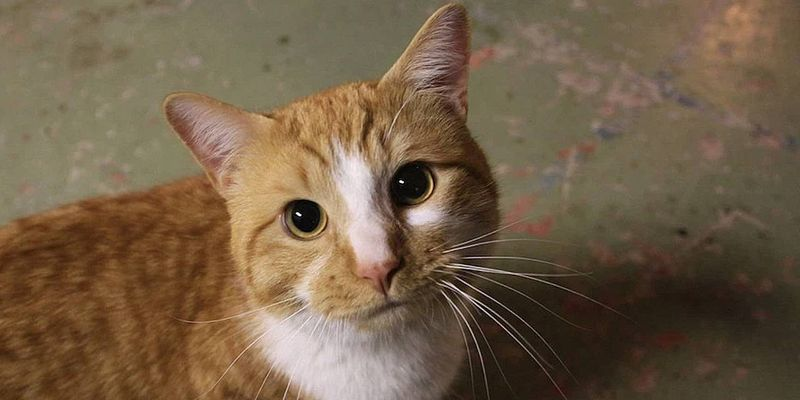cat: (134, 61, 557, 400)
